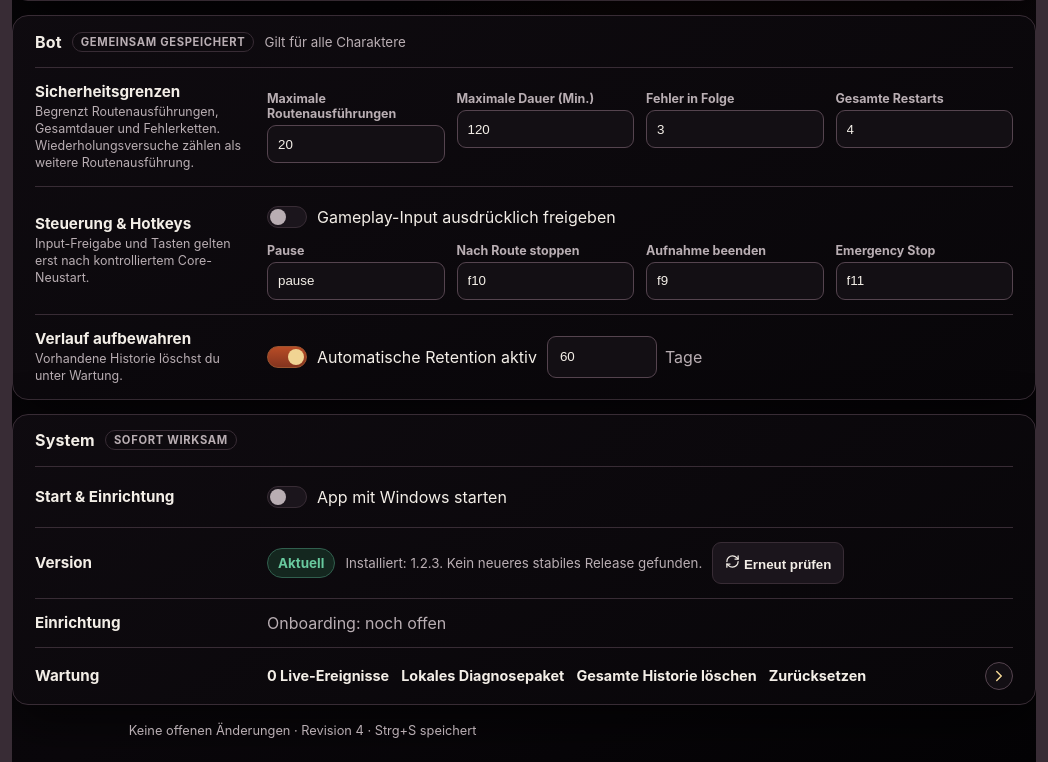
Test: SettingsFeature › speichert Autostart sofort ohne eigenen Speichern-Button
(page scrolled)
Click the checkbox labelled "App mit Windows starten": (387, 496) left=267, top=480, right=507, bottom=512
(page scrolled)
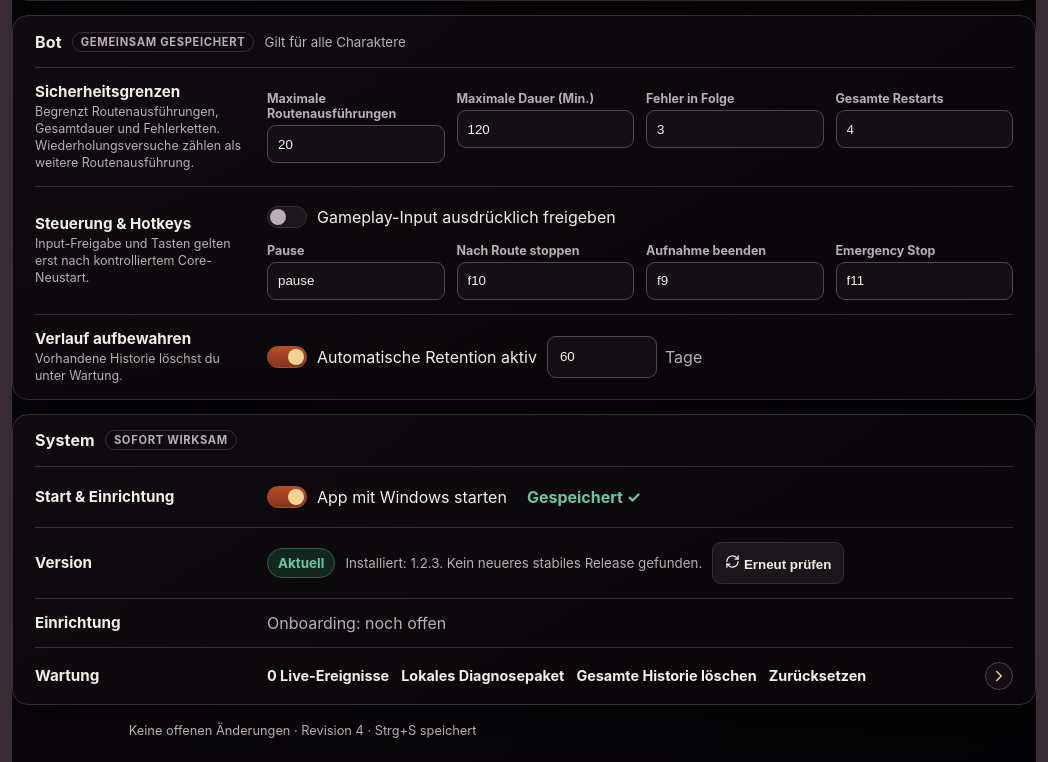
Expected: the text "Gespeichert ✓" is shown, left=527, top=486, right=641, bottom=506
